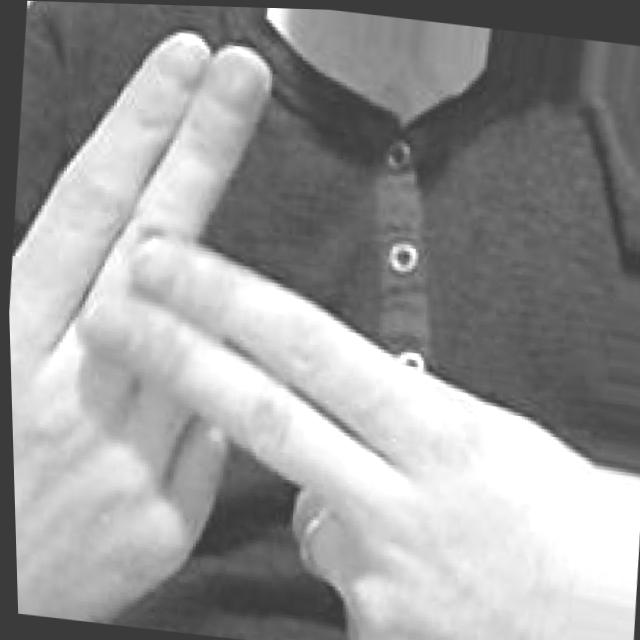K: (0, 3, 634, 640)
